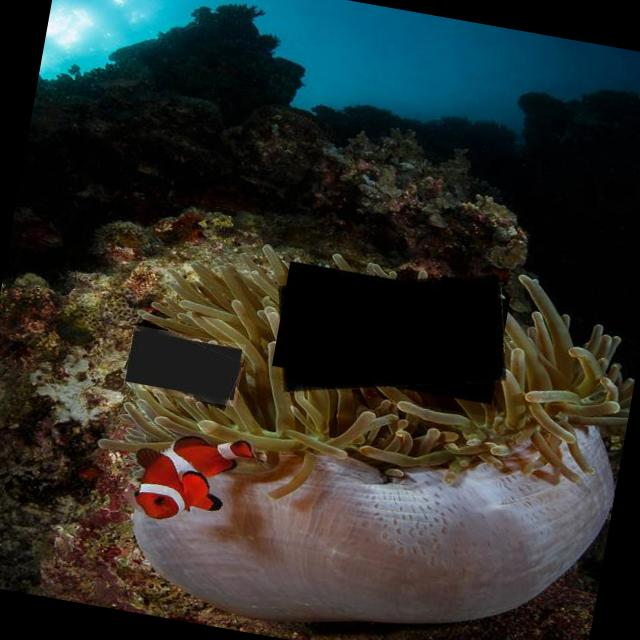ClownFish: (123, 422, 258, 538)
